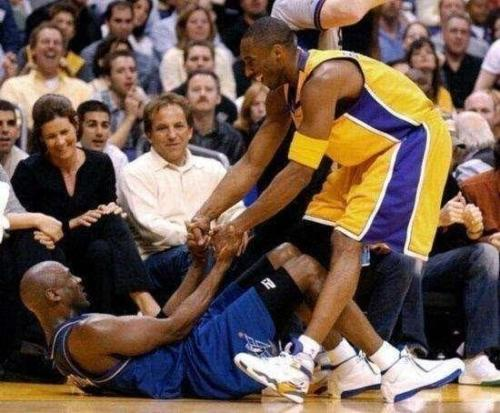bending: (195, 13, 460, 402), (10, 97, 151, 293)
down: (15, 236, 468, 402)
